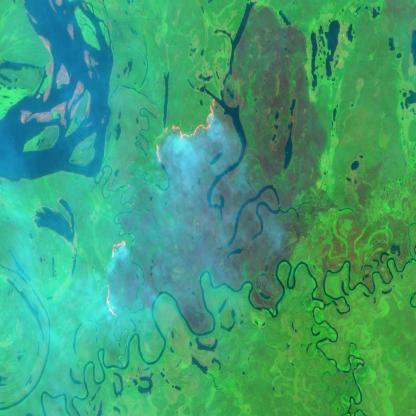fire: (153, 94, 221, 168), (101, 230, 138, 321)
